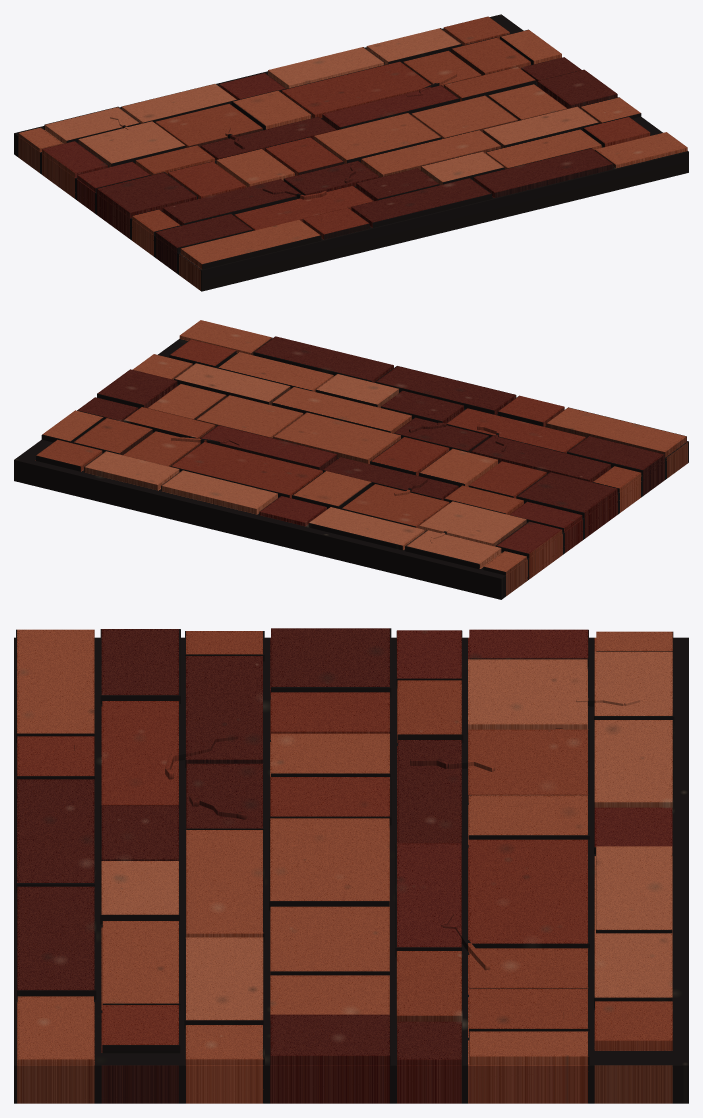
Rendered from 1960s_NY_Alley_Red_Brick_Sidewalk_Tile_Variant_02.fbx.
3 views of the same model, one above another, from view 1: azimuth 30°, elevation 25°; view 2: azimuth 150°, elevation 25°; view 3: azimuth 270°, elevation 25° (orthographic). The views are drawn at different scales.
Visible parts, largest first — view 1: PRINT_SINGLE_MESH_alley_sidewalk_floor_tile; view 2: PRINT_SINGLE_MESH_alley_sidewalk_floor_tile; view 3: PRINT_SINGLE_MESH_alley_sidewalk_floor_tile.
Part boxes in pixels (x1,y1,x2,y2): PRINT_SINGLE_MESH_alley_sidewalk_floor_tile: [14, 14, 688, 291]; PRINT_SINGLE_MESH_alley_sidewalk_floor_tile: [14, 320, 688, 599]; PRINT_SINGLE_MESH_alley_sidewalk_floor_tile: [14, 628, 688, 1103].
Size of the model in its own units: 12 by 0.652 by 8.
Materials: 1 (1 with a texture image).
